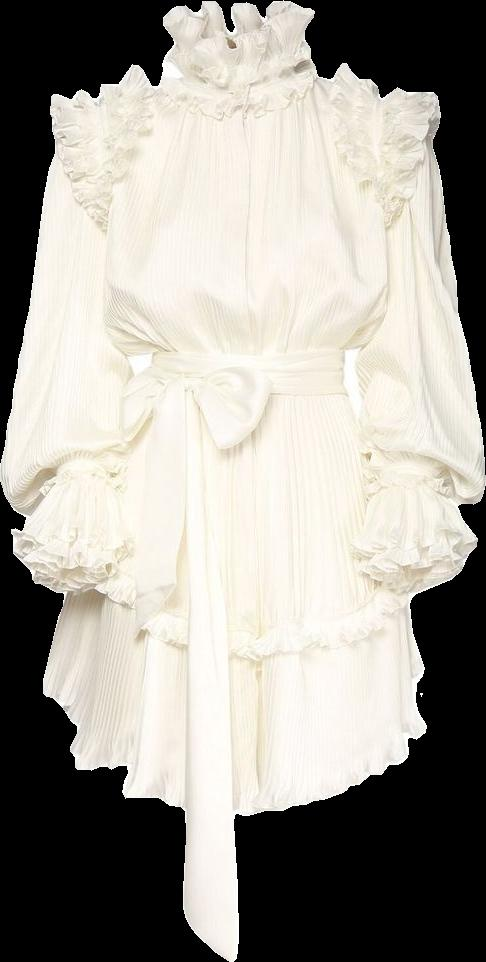Bodice: (50, 1, 440, 400)
Hemline: (37, 666, 434, 832)
Neckline: (165, 9, 315, 64), (163, 62, 313, 100), (147, 346, 350, 363)
Skirt: (43, 386, 425, 826)
Sleeve: (0, 148, 138, 601), (352, 152, 485, 593)
Sleeveline: (21, 454, 119, 514), (56, 151, 109, 235), (387, 151, 438, 235), (364, 478, 461, 513)
Waistline: (143, 384, 346, 407)
